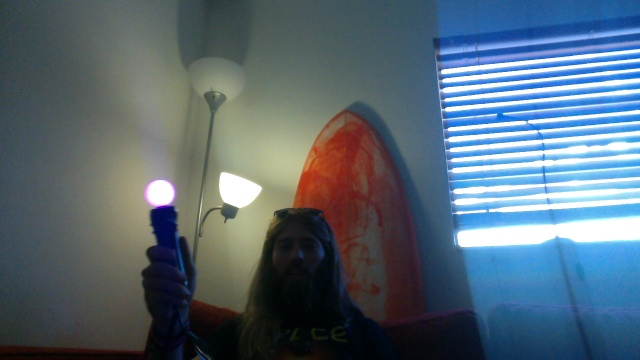wand: (146, 180, 174, 207)
